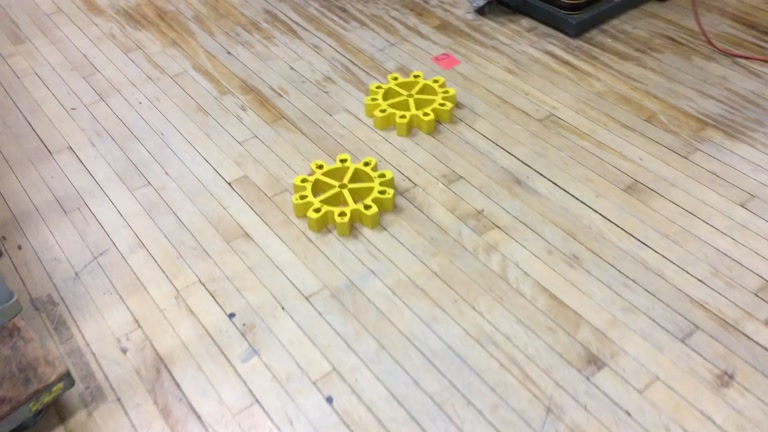gear: (291, 153, 398, 236), (365, 70, 458, 136)
